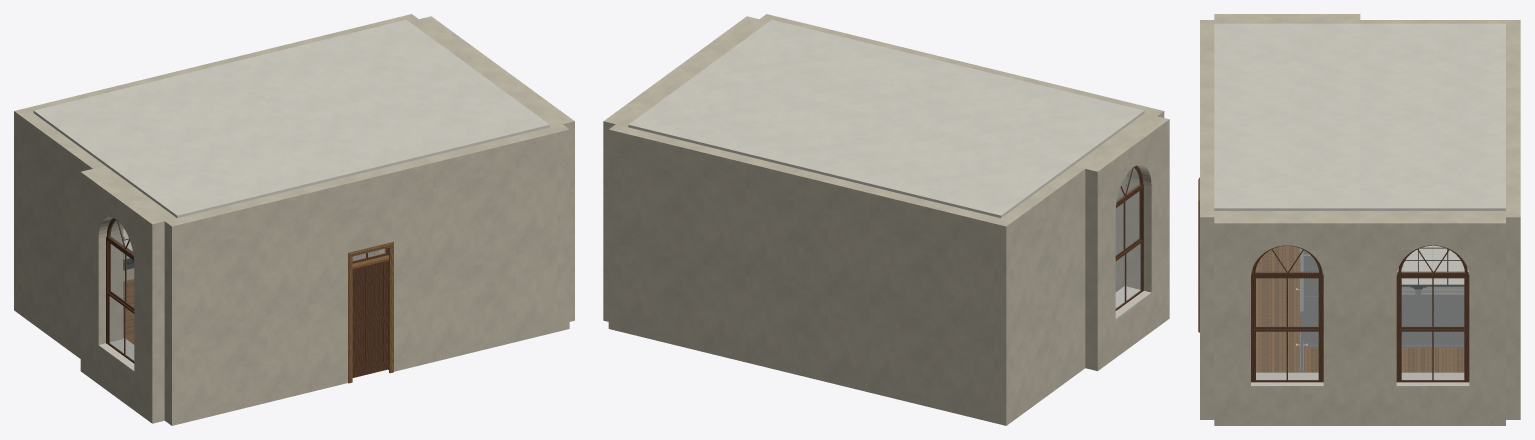
The model's file is X14_DEMO_LRS_Room.glb.
3 renders of one model, left to right at view 1: azimuth 30°, elevation 25°; view 2: azimuth 150°, elevation 25°; view 3: azimuth 270°, elevation 25°, orthographic.
Visible parts, largest first — view 1: X14_ARCH_Wall_Plain_300_LOD0.s0, X14_ARCH_Wall_Plain_300_LOD0.s2, X14_ARCH_Wall_Door_300_LOD0.s1, X14_ARCH_Wall_Window_300_LOD0.w1, X14_ARCH_Wall_Plain_300_LOD0.w0, X14_ARCH_Ceiling_300_LOD0.c00, X14_ARCH_Ceiling_300_LOD0.c10, X14_ARCH_Ceiling_300_LOD0.c20, X14_ARCH_Ceiling_300_LOD0.c01, X14_ARCH_Ceiling_300_LOD0.c11, X14_ARCH_Ceiling_300_LOD0.c21, X14_ARCH_Corner_LOD0.k0 (+10 smaller); view 2: X14_ARCH_Wall_Plain_300_LOD0.n1, X14_ARCH_Wall_Plain_300_LOD0.n2, X14_ARCH_Wall_Plain_300_LOD0.n0, X14_ARCH_Wall_Window_300_LOD0.w1, X14_ARCH_Wall_Plain_300_LOD0.w0, X14_ARCH_Ceiling_300_LOD0.c01, X14_ARCH_Ceiling_300_LOD0.c21, X14_ARCH_Ceiling_300_LOD0.c11, X14_ARCH_Ceiling_300_LOD0.c00, X14_ARCH_Ceiling_300_LOD0.c10, X14_ARCH_Ceiling_300_LOD0.c20, X14_ARCH_Corner_LOD0.k3 (+7 smaller); view 3: X14_ARCH_Wall_Window_300_LOD0.e0, X14_ARCH_Wall_Window_300_LOD0.e1, X14_ARCH_Ceiling_300_LOD0.c20, X14_ARCH_Ceiling_300_LOD0.c21, X14_ARCH_Ceiling_300_LOD0.c00, X14_ARCH_Ceiling_300_LOD0.c01, X14_ARCH_Ceiling_300_LOD0.c10, X14_ARCH_Ceiling_300_LOD0.c11, X14_ARCH_Wall_Window_300_Glass_LOD0.e0, X14_ARCH_Wall_Window_300_Glass_LOD0.e1, X14_ARCH_Corner_LOD0.k1, X14_ARCH_Corner_LOD0.k2 (+18 smaller).
Boxes of the visible parts, x1=… form: X14_ARCH_Wall_Plain_300_LOD0.s0: x1=177, y1=188, x2=308, y2=422; X14_ARCH_Wall_Plain_300_LOD0.s2: x1=426, y1=127, x2=557, y2=362; X14_ARCH_Wall_Door_300_LOD0.s1: x1=302, y1=157, x2=432, y2=392; X14_ARCH_Wall_Window_300_LOD0.w1: x1=80, y1=166, x2=176, y2=423; X14_ARCH_Wall_Plain_300_LOD0.w0: x1=21, y1=113, x2=104, y2=358; X14_ARCH_Ceiling_300_LOD0.c00: x1=105, y1=133, x2=301, y2=218; X14_ARCH_Ceiling_300_LOD0.c10: x1=230, y1=102, x2=425, y2=187; X14_ARCH_Ceiling_300_LOD0.c20: x1=354, y1=72, x2=549, y2=157; X14_ARCH_Ceiling_300_LOD0.c01: x1=33, y1=80, x2=229, y2=165; X14_ARCH_Ceiling_300_LOD0.c11: x1=158, y1=50, x2=353, y2=132; X14_ARCH_Ceiling_300_LOD0.c21: x1=282, y1=19, x2=477, y2=102; X14_ARCH_Corner_LOD0.k0: x1=164, y1=218, x2=184, y2=425; X14_ARCH_Wall_Plain_300_LOD0.n1: x1=745, y1=157, x2=876, y2=392; X14_ARCH_Wall_Plain_300_LOD0.n2: x1=869, y1=188, x2=1000, y2=422; X14_ARCH_Wall_Plain_300_LOD0.n0: x1=621, y1=127, x2=751, y2=361; X14_ARCH_Wall_Window_300_LOD0.w1: x1=1073, y1=113, x2=1169, y2=371; X14_ARCH_Wall_Plain_300_LOD0.w0: x1=1001, y1=166, x2=1085, y2=420; X14_ARCH_Ceiling_300_LOD0.c01: x1=877, y1=133, x2=1072, y2=217; X14_ARCH_Ceiling_300_LOD0.c21: x1=628, y1=72, x2=823, y2=157; X14_ARCH_Ceiling_300_LOD0.c11: x1=752, y1=102, x2=948, y2=187; X14_ARCH_Ceiling_300_LOD0.c00: x1=949, y1=80, x2=1144, y2=165; X14_ARCH_Ceiling_300_LOD0.c10: x1=824, y1=50, x2=1019, y2=132; X14_ARCH_Ceiling_300_LOD0.c20: x1=700, y1=20, x2=895, y2=102; X14_ARCH_Corner_LOD0.k3: x1=994, y1=218, x2=1013, y2=425; X14_ARCH_Wall_Window_300_LOD0.e0: x1=1214, y1=211, x2=1360, y2=425; X14_ARCH_Wall_Window_300_LOD0.e1: x1=1360, y1=211, x2=1505, y2=425; X14_ARCH_Ceiling_300_LOD0.c20: x1=1214, y1=147, x2=1360, y2=210; X14_ARCH_Ceiling_300_LOD0.c21: x1=1360, y1=147, x2=1505, y2=210; X14_ARCH_Ceiling_300_LOD0.c00: x1=1214, y1=23, x2=1360, y2=85; X14_ARCH_Ceiling_300_LOD0.c01: x1=1360, y1=23, x2=1505, y2=85; X14_ARCH_Ceiling_300_LOD0.c10: x1=1214, y1=85, x2=1360, y2=146; X14_ARCH_Ceiling_300_LOD0.c11: x1=1360, y1=85, x2=1505, y2=146; X14_ARCH_Wall_Window_300_Glass_LOD0.e0: x1=1256, y1=246, x2=1318, y2=379; X14_ARCH_Wall_Window_300_Glass_LOD0.e1: x1=1401, y1=246, x2=1464, y2=379; X14_ARCH_Corner_LOD0.k1: x1=1200, y1=211, x2=1214, y2=419; X14_ARCH_Corner_LOD0.k2: x1=1506, y1=211, x2=1520, y2=419.
Size of what is drawn, in the model's own units: 10.2 by 4.66 by 6.63.
Materials: 14 (9 with a texture image).
